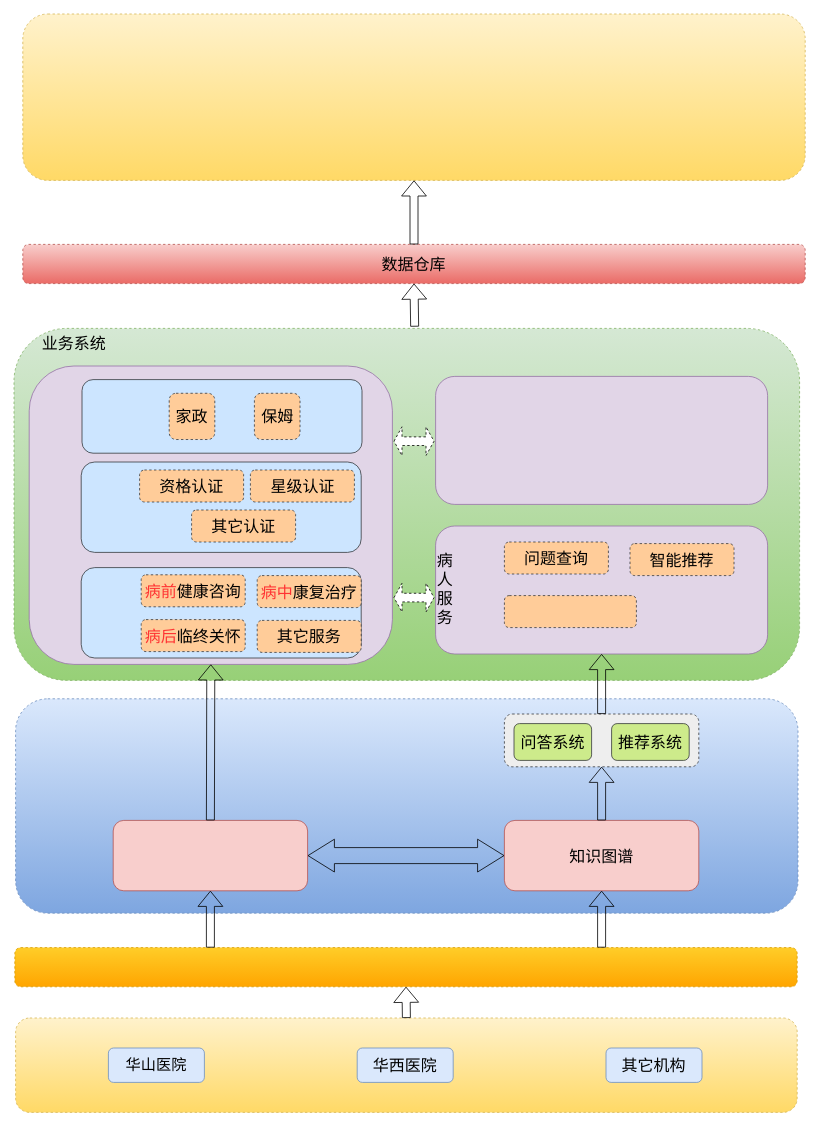
Image size: 819x1126. Some labels were removed from this diagram. Here are the shapes that lost their labels. From the top down, the box of each, then its label:
(22, 13, 805, 180): 报 表 服 务
(81, 379, 362, 453): 服务 对象
(435, 376, 768, 504): 应 急 服 务
(28, 365, 392, 664): 护 理 人 员 服 务
(80, 461, 361, 552): 认证 服务
(80, 567, 361, 658): 服务 内容
(504, 595, 636, 628): 护理人员选择
(15, 698, 798, 913): 数 据 应 用
(112, 820, 308, 891): 数据服务
(14, 947, 797, 987): 基于区块链的数据共享平台
(15, 1017, 797, 1112): 数 据 支 撑
